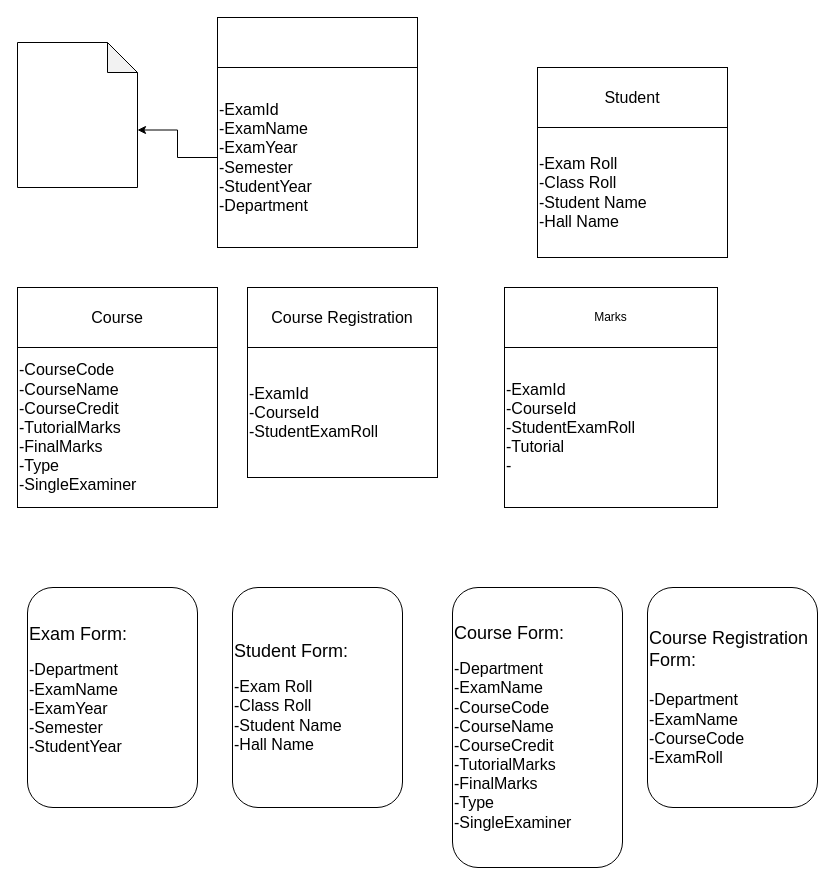
Image size: 835x885. Some labels were removed from this diagram. Here are the shapes that lost their labels. From the top down, the centre of each, then its label:
pixel 317 42: Exam
pixel 77 115: ExamId= dept+ Student Year + Semester
